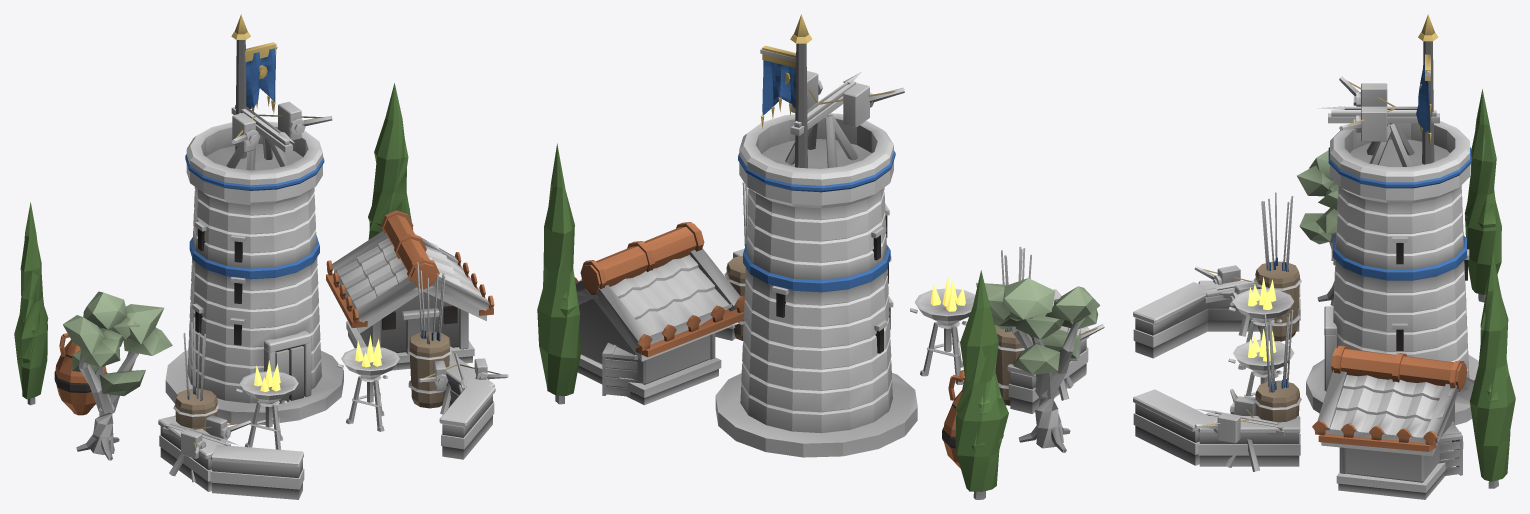
File: defense-tower-l1.glb
3 renders of one model, left to right at view 1: azimuth 30°, elevation 25°; view 2: azimuth 150°, elevation 25°; view 3: azimuth 270°, elevation 25°, orthographic. The views are drawn at different scales.
Parts seen in each view (by area): view 1: defense-tower-l1; view 2: defense-tower-l1; view 3: defense-tower-l1.
Part boxes in pixels (box(x1,y1,x2,y2)): defense-tower-l1: box(14, 14, 508, 499); defense-tower-l1: box(537, 14, 1104, 499); defense-tower-l1: box(1133, 14, 1515, 499).
Bounding box in the file's own units: 1.51 × 1.21 × 1.1.
